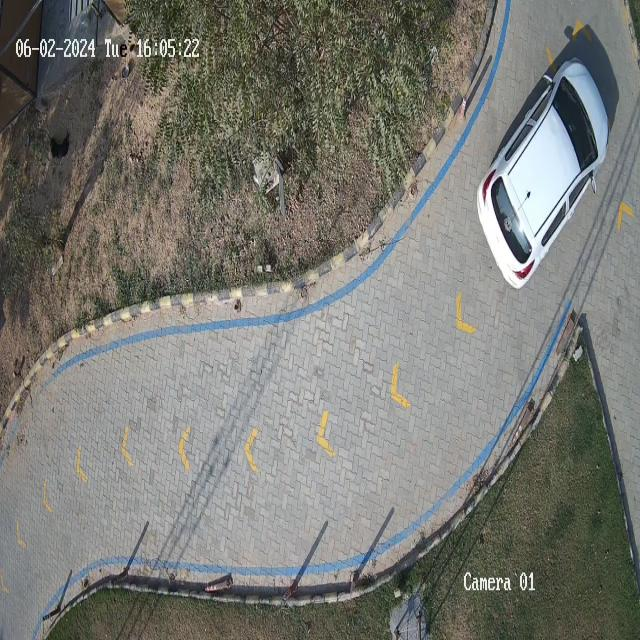car: (478, 45, 610, 289)
